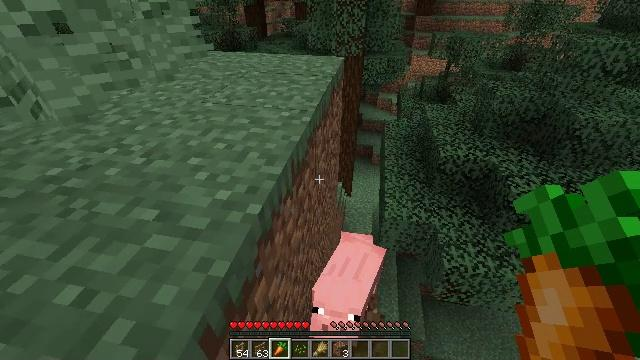pig: (311, 233, 387, 329)
